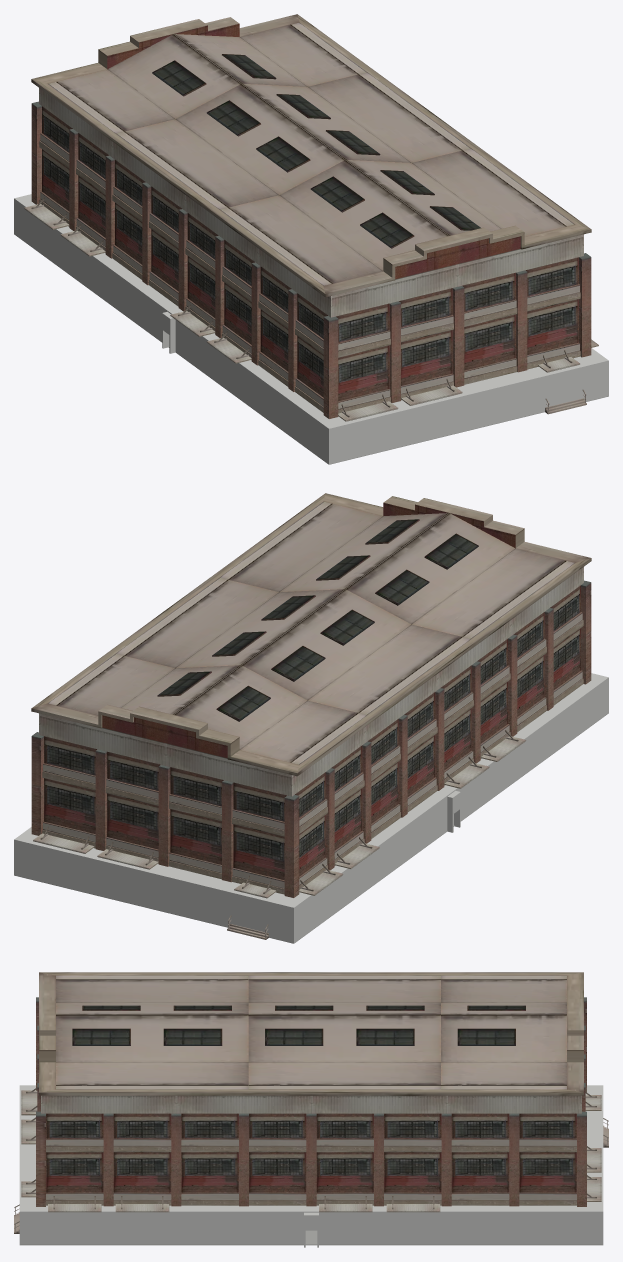
The model's file is ind-building-10.zfix-v1.lod0.glb.
3 renders of one model, top to bottom at view 1: azimuth 30°, elevation 25°; view 2: azimuth 150°, elevation 25°; view 3: azimuth 270°, elevation 25°, orthographic. The views are drawn at different scales.
Parts seen in each view (by area): view 1: Industrial_Building_10_Material #2_0, Walkable floors and stairs; view 2: Industrial_Building_10_Material #2_0, Walkable floors and stairs; view 3: Industrial_Building_10_Material #2_0, Walkable floors and stairs (×2).
Boxes of the visible parts, x1=… form: Industrial_Building_10_Material #2_0: x1=24, y1=14, x2=598, y2=421; Walkable floors and stairs: x1=14, y1=194, x2=608, y2=464; Industrial_Building_10_Material #2_0: x1=31, y1=493, x2=591, y2=939; Walkable floors and stairs: x1=14, y1=673, x2=608, y2=943; Industrial_Building_10_Material #2_0: x1=14, y1=972, x2=608, y2=1233; Walkable floors and stairs (×2): x1=19, y1=1085, x2=603, y2=1247.
Bounding box in the file's own units: 43.5 × 25.82 × 83.27.
3 materials, 1 textured.
